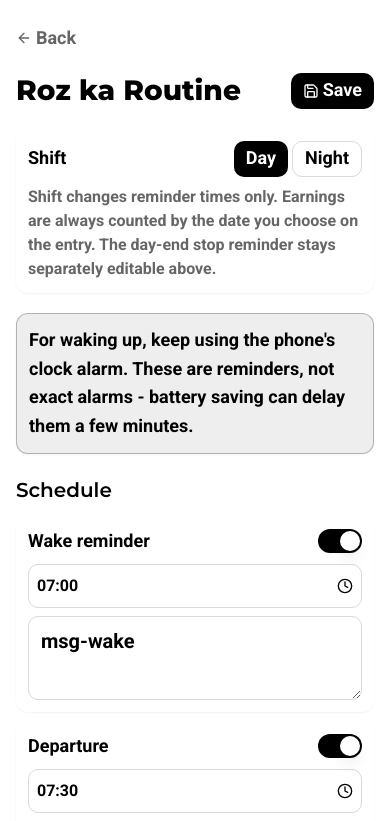
Test: RoutinePage save vs scheduling › failed shift:mode retry: Night intent survives the refetch and the retry saves Night
This screenshot has width=390, height=821.
Later steps or results of the test are not shown.
Expected: the button "Save" is shown, x1=291 y1=73 x2=374 y2=109
What coordinates should you click on to do the following:
click the button "Night"
I would click on:
 (327, 159)
Its box is x1=292 y1=141 x2=362 y2=177.
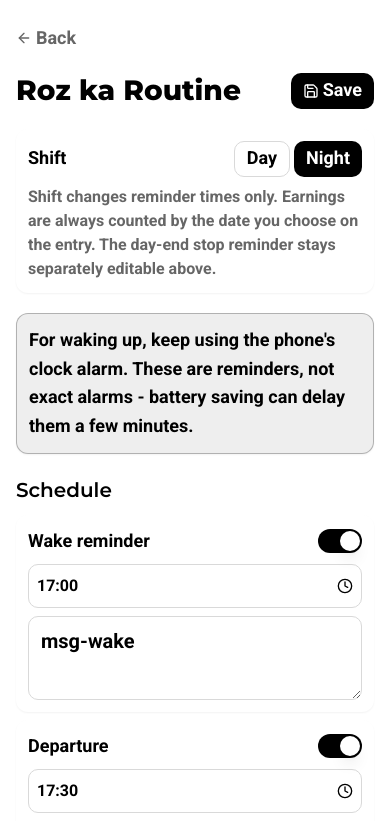
Expected: the button "Night" has class "bg-primary", x1=294 y1=141 x2=362 y2=177
What coordinates should you click on to do the following:
click the button "Save"
I would click on:
 (332, 91)
Its box is x1=291 y1=73 x2=374 y2=109.
Expected: the button "Night" has class "bg-primary", x1=294 y1=141 x2=362 y2=177
